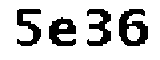3: (83, 6, 114, 51)
5: (6, 4, 47, 48)
6: (116, 4, 152, 50)
e: (46, 16, 80, 50)
